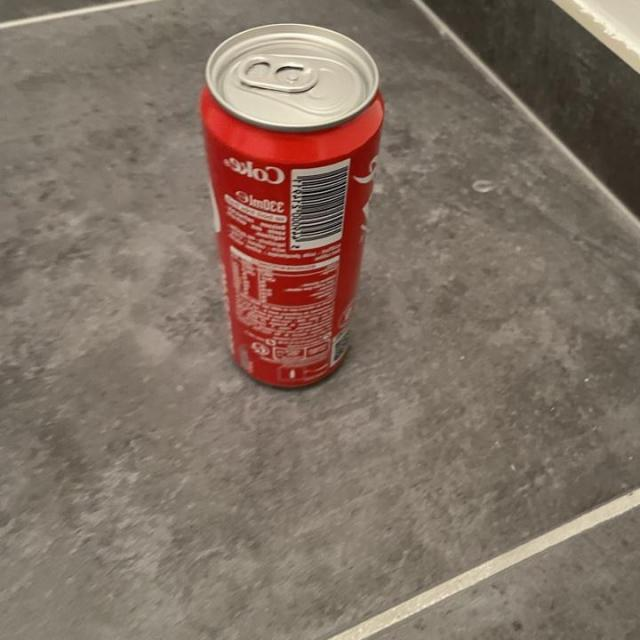can: (197, 17, 386, 395)
